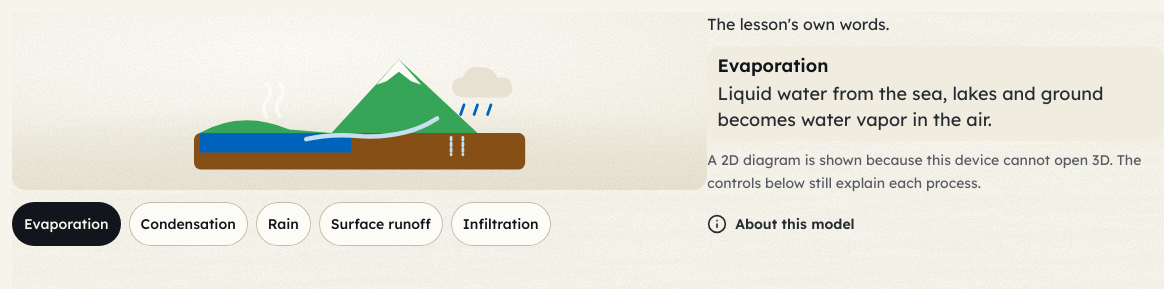
Test: a 3D scene on a lesson slide › shows the stage, one row of choices and the chosen process explained, with the notes behind a disclosure
Check: the number of elements with class "stage3d-bar" is 1, box x1=12 y1=202 x2=551 y2=246
Click the button "Infiltration".
click(501, 224)  # box x1=451 y1=202 x2=551 y2=246
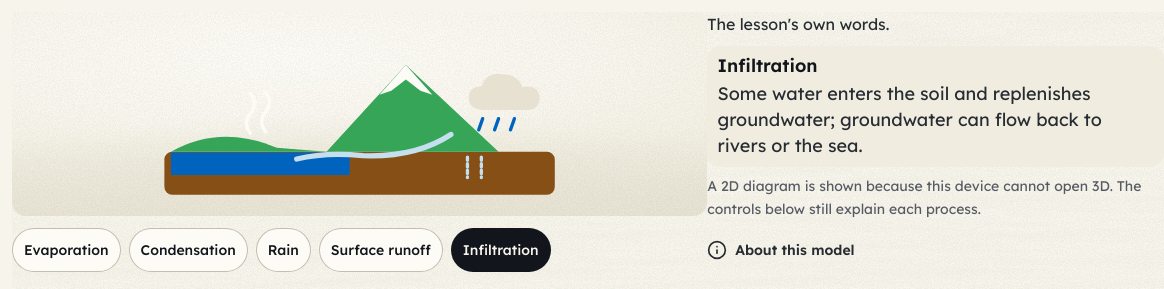
Check: the message shows "replenishes groundwater", box x1=718 y1=82 x2=1102 y2=157
